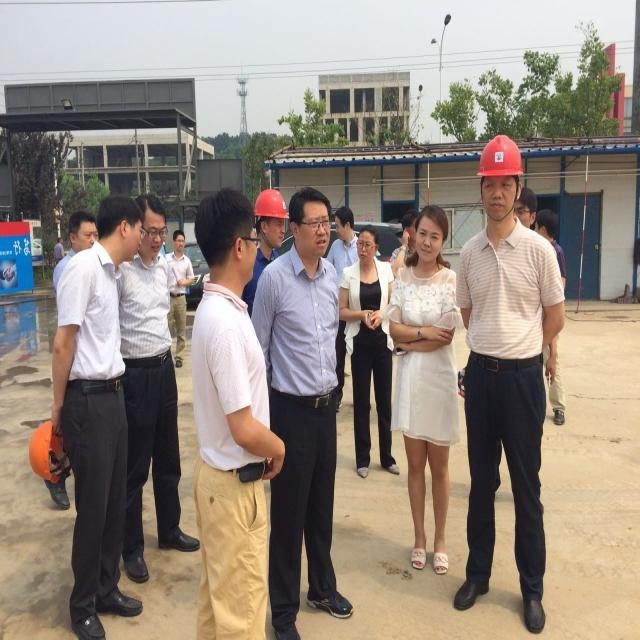Con_Casco: (477, 135, 522, 220), (255, 188, 289, 246)
Sin_Casco_Mascarrilla: (290, 187, 334, 255)
Sin_Chaleco: (189, 286, 272, 462), (393, 260, 459, 383)
